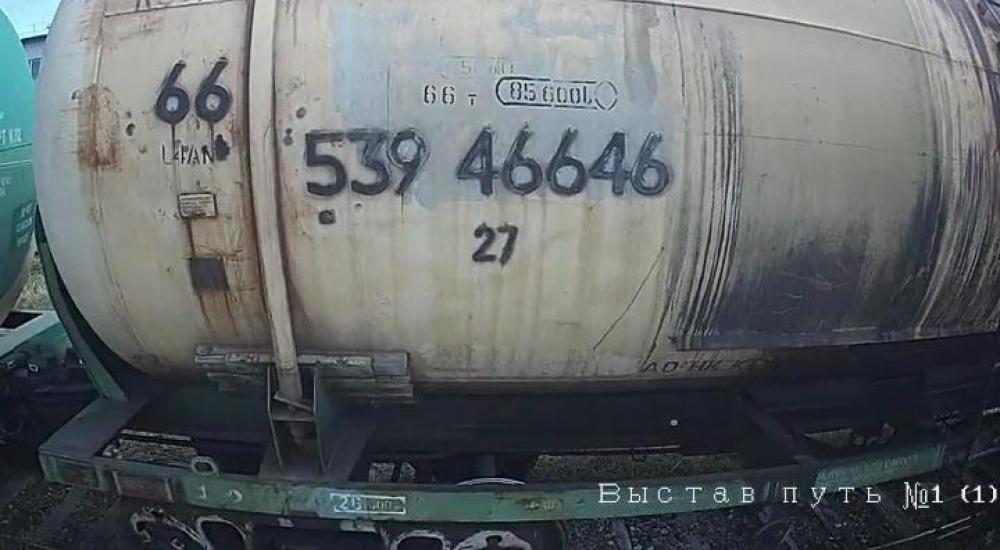Wagon-number: (298, 121, 676, 207)
